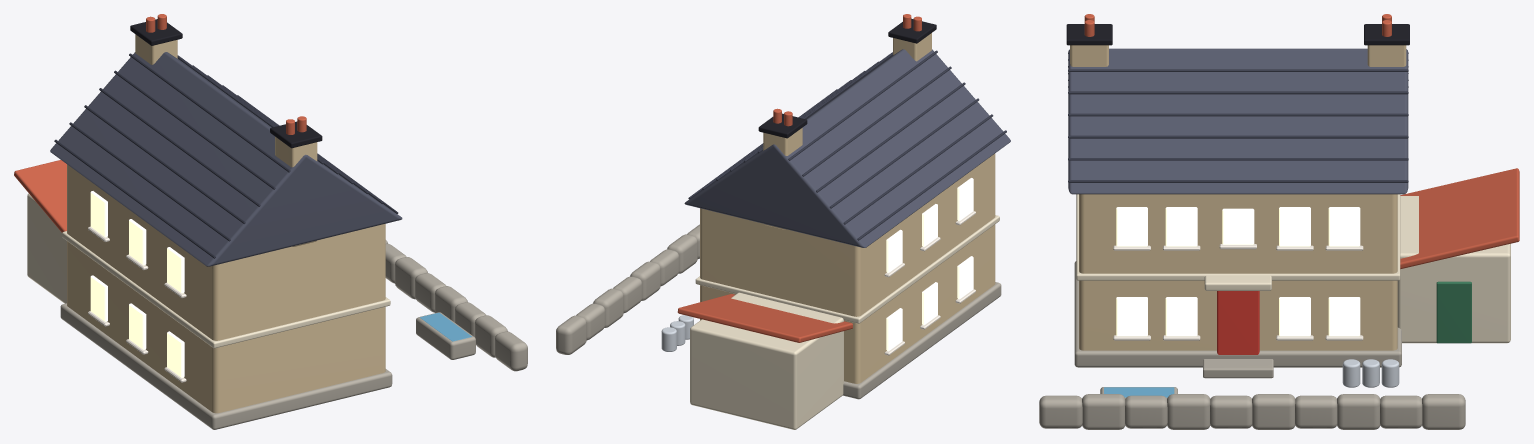
File: farmhouse.glb
3 views of the same model, side by side, from view 1: azimuth 30°, elevation 25°; view 2: azimuth 150°, elevation 25°; view 3: azimuth 270°, elevation 25° (orthographic). The views are drawn at different scales.
Parts seen in each view (by area): view 1: farmhouse; view 2: farmhouse; view 3: farmhouse.
Part boxes in pixels (bbox=[...]): farmhouse: bbox=[14, 14, 527, 429]; farmhouse: bbox=[556, 14, 1010, 429]; farmhouse: bbox=[1039, 14, 1519, 429].
Bounding box in the file's own units: 10.7 × 9.45 × 13.58.
Materials: 1 (1 with a texture image).
